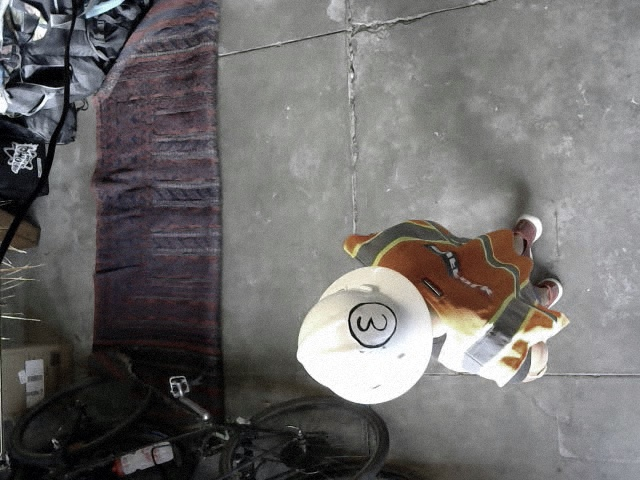three: (347, 302, 395, 347)
